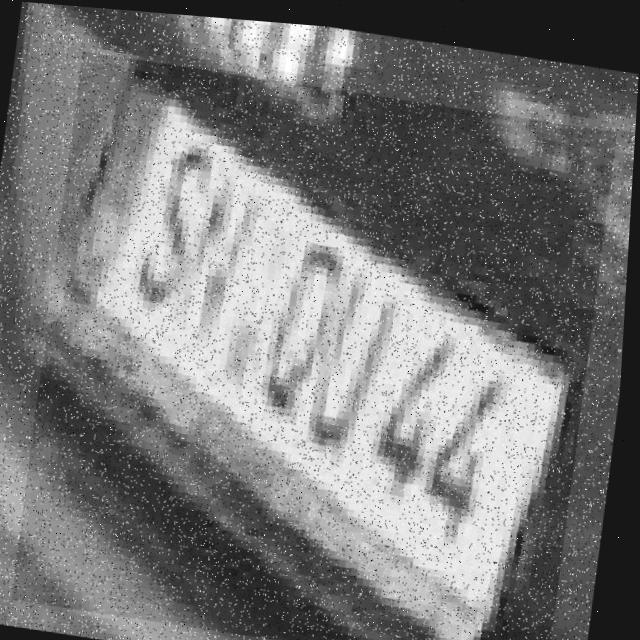LicensePlate: (16, 47, 619, 640)
